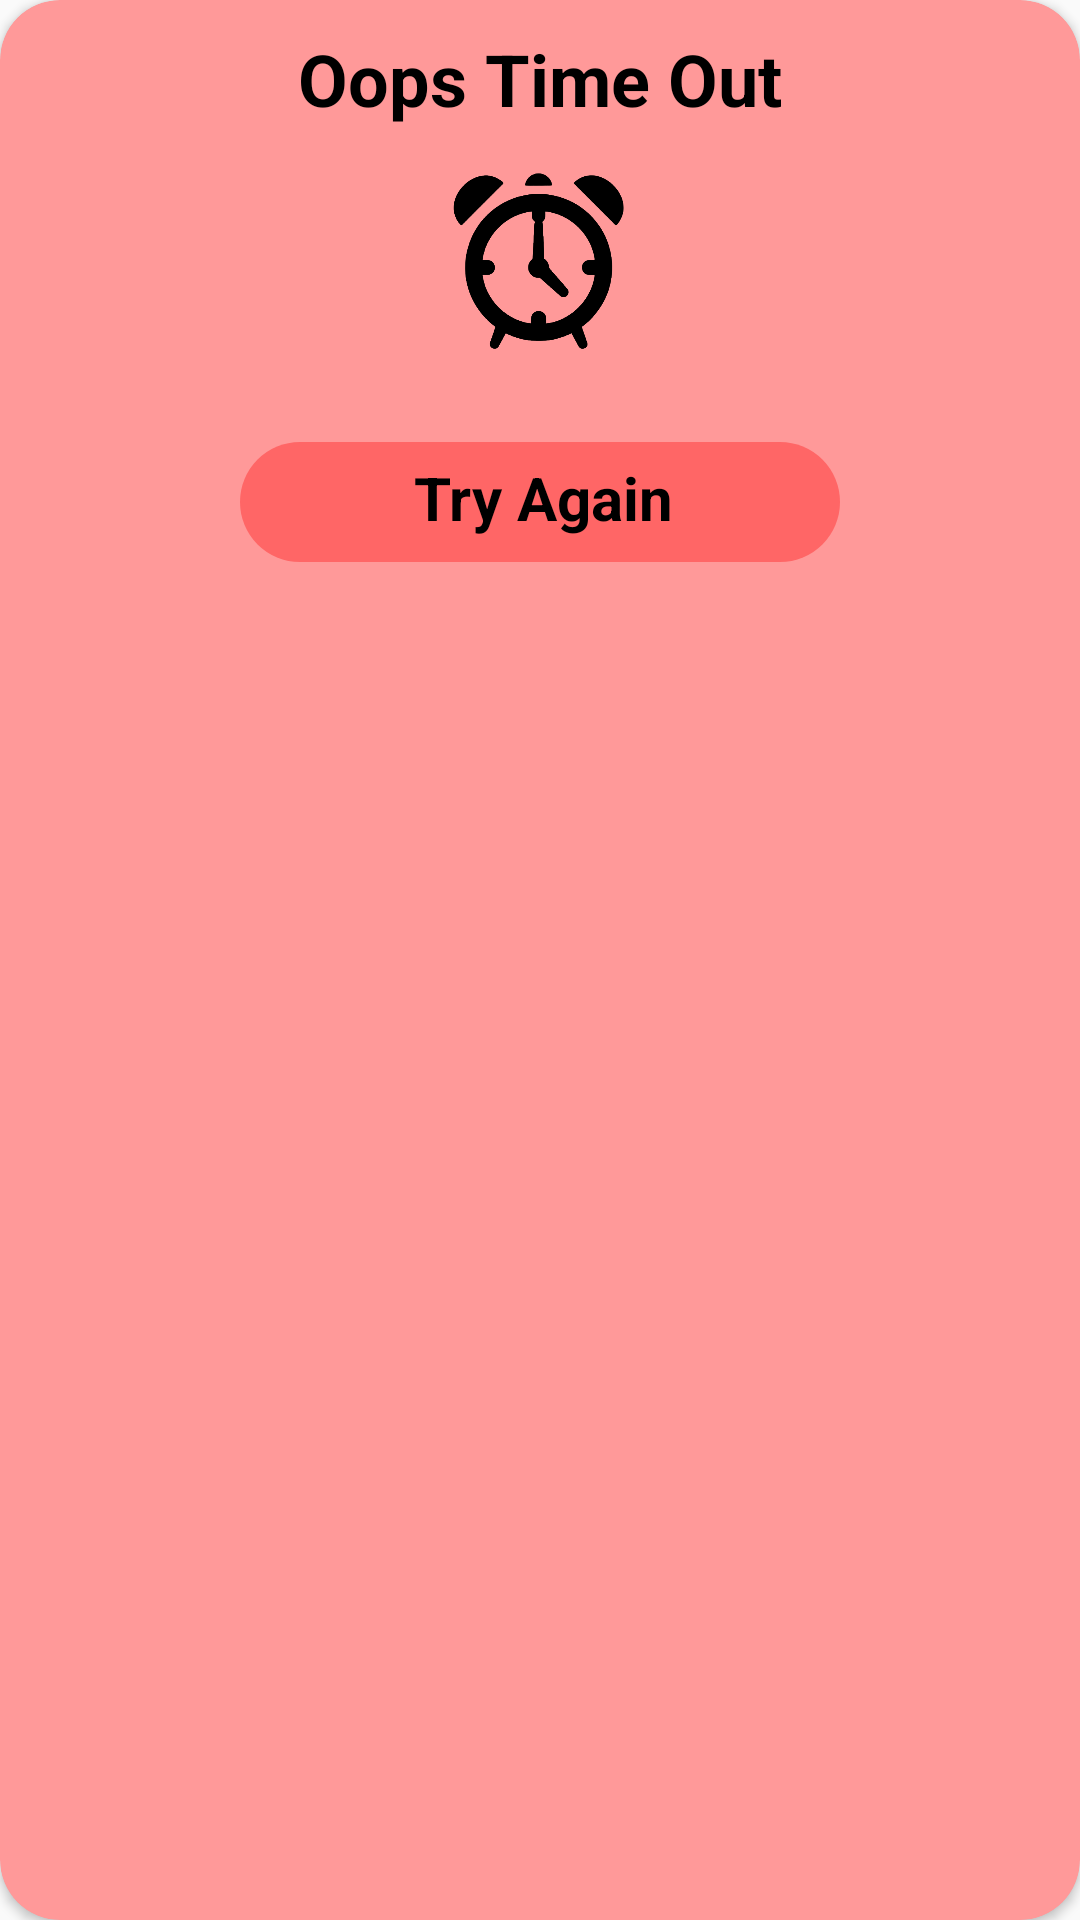

Where to tap for icons on this 1080px x 1920px app screen, as (x=x, y=y):
maintimer: (x=538, y=261)
